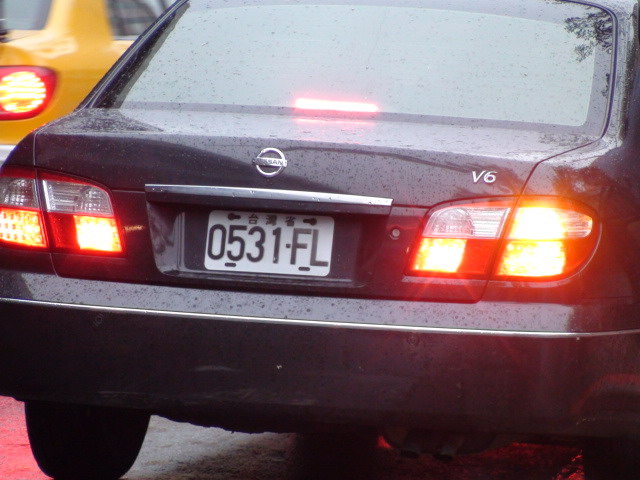plate: (201, 206, 336, 279)
